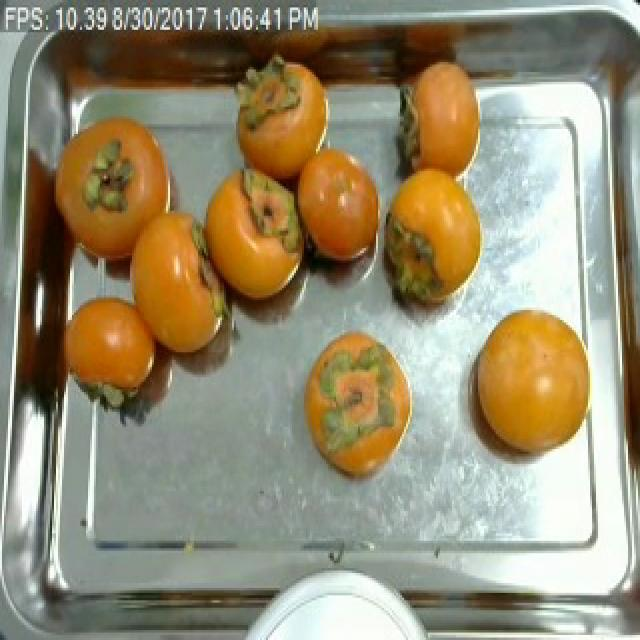Fruit: (188, 149, 324, 322), (292, 320, 422, 494), (460, 297, 588, 473), (376, 161, 494, 335), (284, 129, 384, 300), (62, 278, 176, 422)
